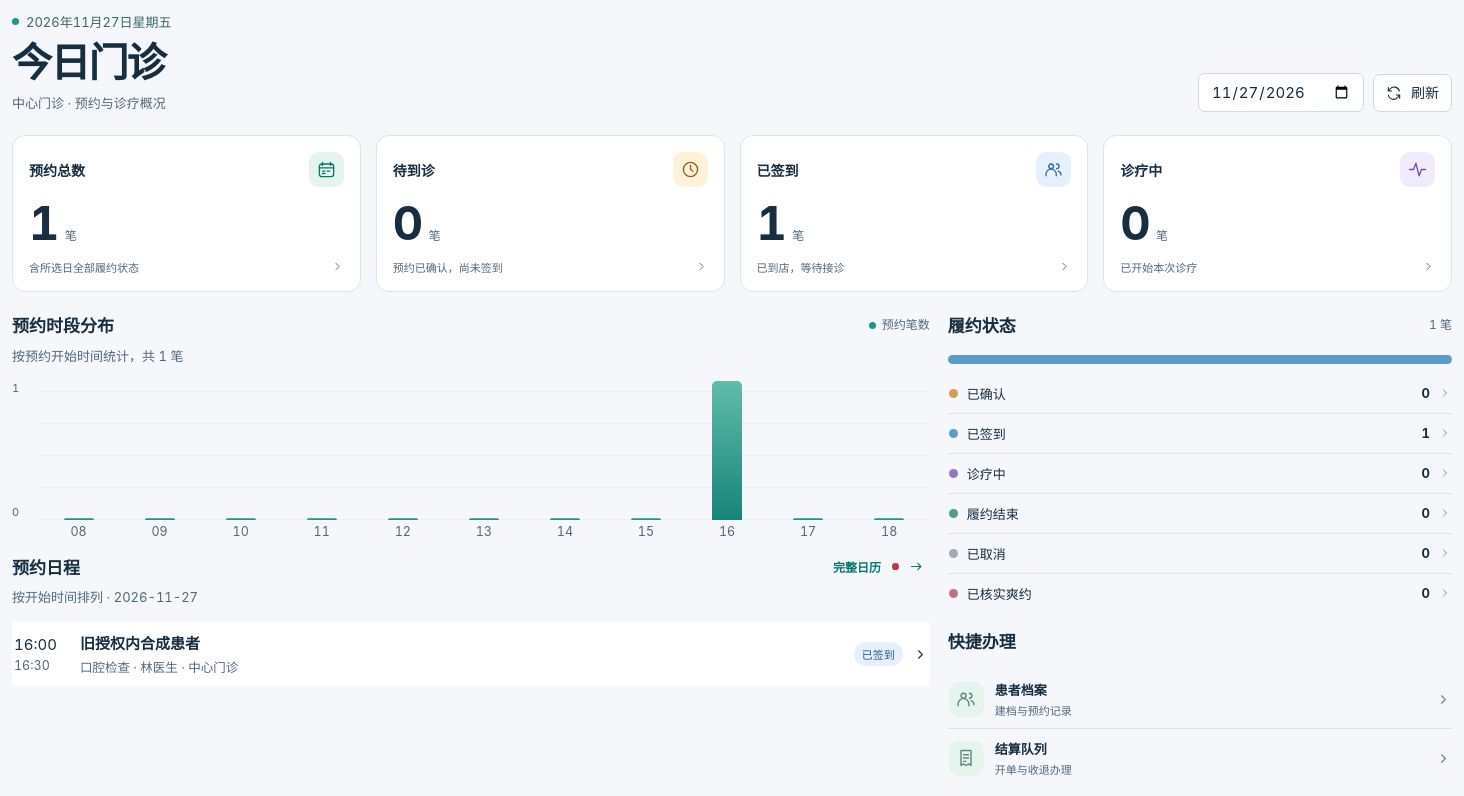
refresh denies old appointment names and dots when the workbench scope is revoked
This screenshot has width=1464, height=796.
Expected: the button "16:00 16:30 旧授权内合成患者 口腔检查 · 林医生 · 中心门诊 已签到" is shown, top-left (12, 622), bottom-right (930, 686)
Expected: the button "完整日历" is shown, top-left (827, 557), bottom-right (930, 576)
Click the button "刷新".
click(1412, 93)  # box top-left (1373, 74), bottom-right (1452, 112)
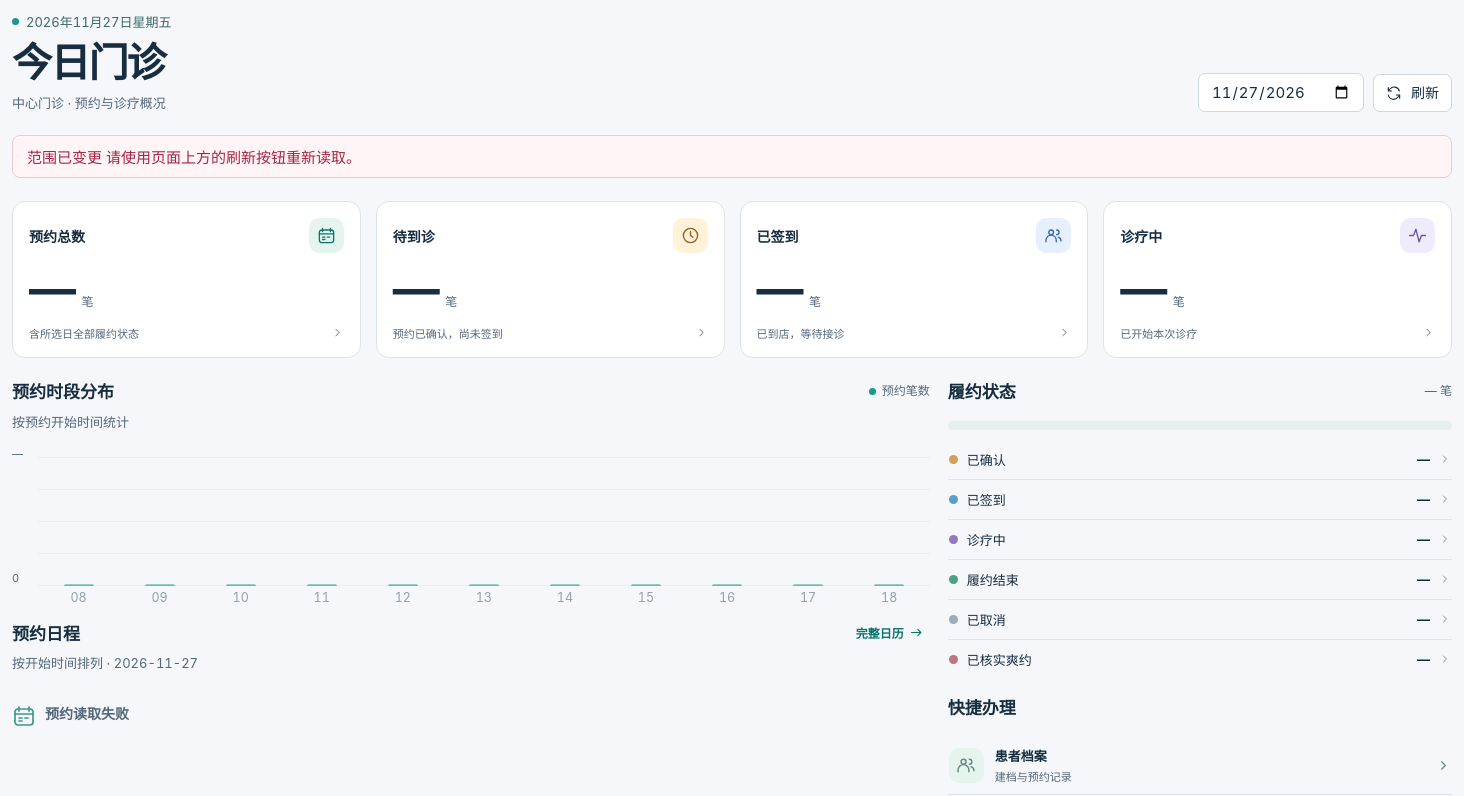
Result: the message "范围已变更 请使用页面上方的刷新按钮重新读取。" is shown at top-left (12, 135), bottom-right (1452, 178)
Result: the button "旧授权内合成患者" is gone
